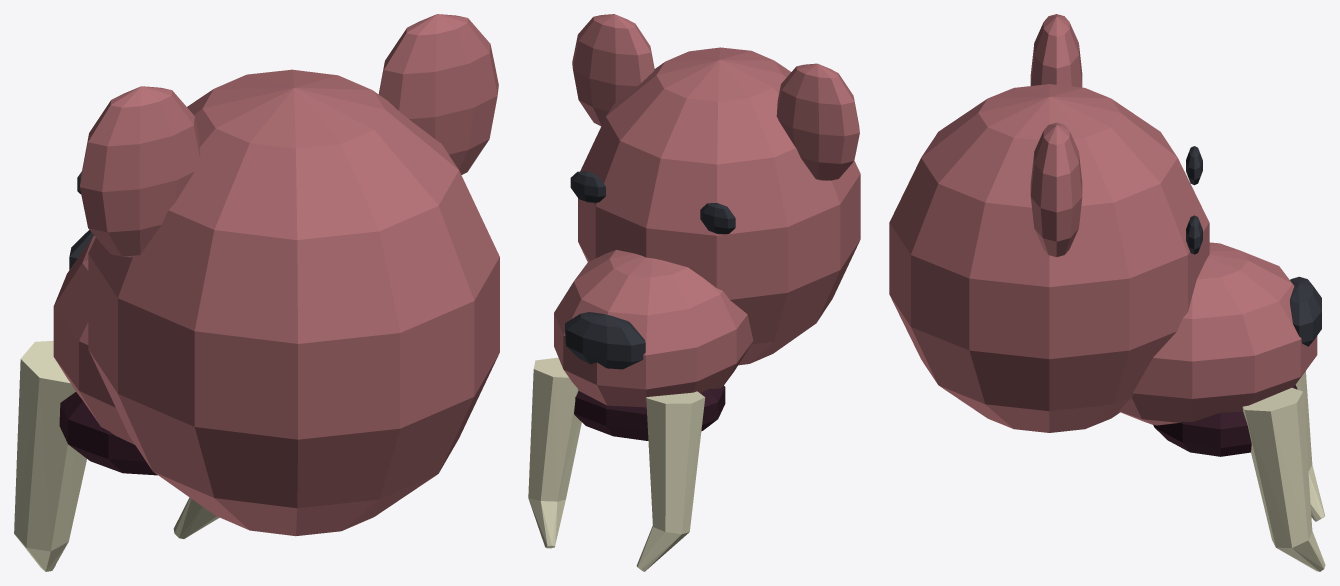
File: chimera_d_head.obj
3 renders of one model, left to right at view 1: azimuth 30°, elevation 25°; view 2: azimuth 150°, elevation 25°; view 3: azimuth 270°, elevation 25°, orthographic. The views are drawn at different scales.
Visible parts, largest first — view 1: chimera_d_head; view 2: chimera_d_head; view 3: chimera_d_head.
Boxes of the visible parts, bbox=[...] form: chimera_d_head: bbox=[14, 14, 499, 571]; chimera_d_head: bbox=[528, 14, 860, 571]; chimera_d_head: bbox=[889, 14, 1325, 571].
Size of the model in its own units: 0.51 by 0.735 by 0.6111.
